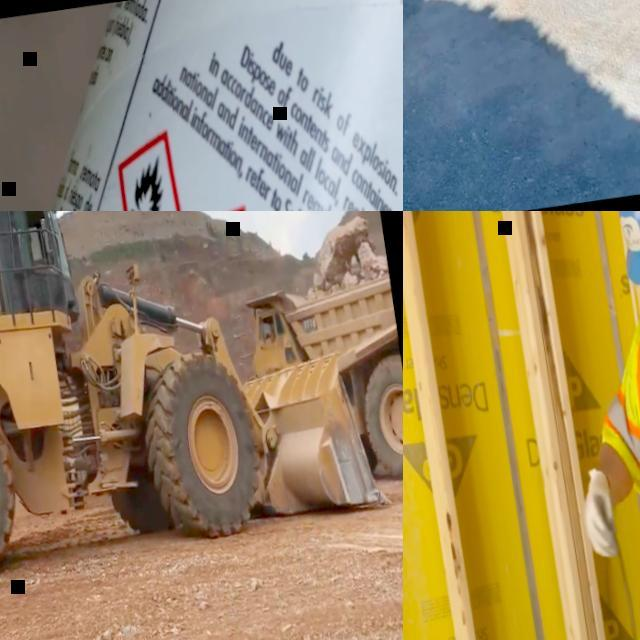vest: (580, 275, 640, 640)
